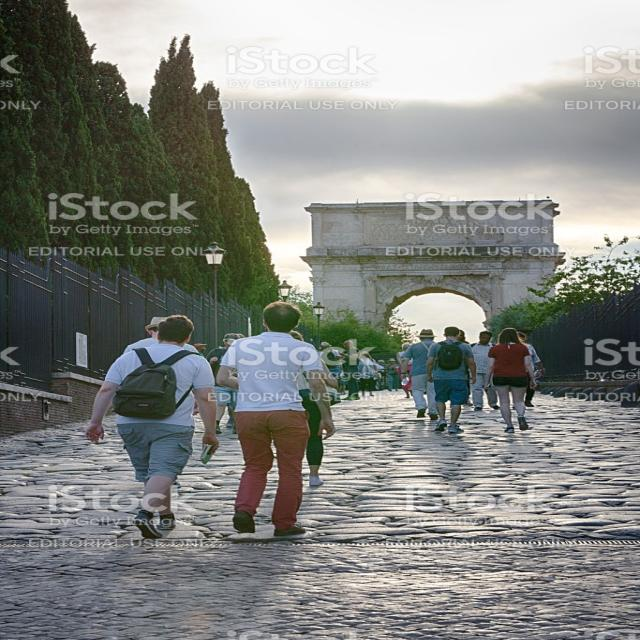body: (80, 313, 225, 543), (211, 298, 338, 540), (422, 324, 478, 434), (482, 328, 538, 433), (395, 325, 444, 422), (205, 332, 248, 436), (122, 313, 209, 356), (468, 330, 502, 412), (516, 330, 546, 408), (337, 340, 362, 400), (319, 339, 342, 404), (454, 329, 472, 408), (393, 342, 415, 399), (357, 350, 378, 398), (376, 359, 394, 392)
